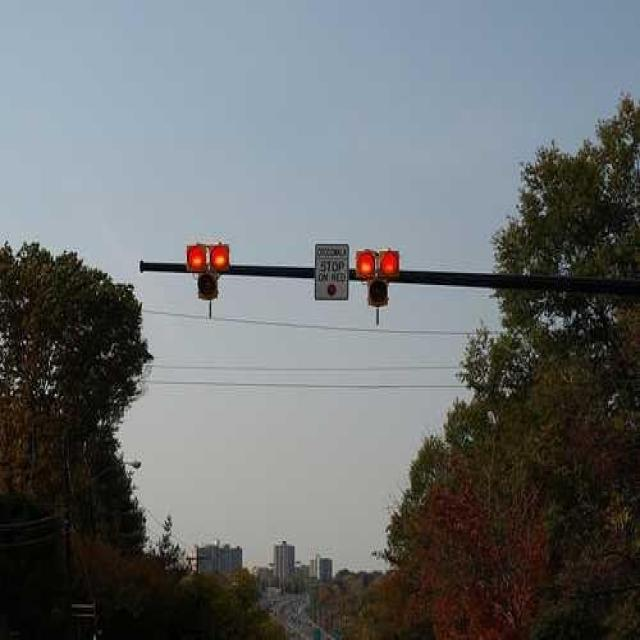Traffic Light -Red-: (182, 241, 233, 300)
